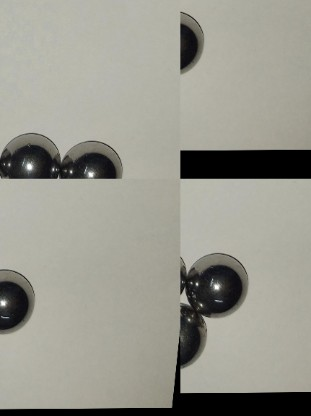ironball: (189, 250, 249, 316), (0, 125, 62, 179), (2, 262, 40, 339), (60, 140, 133, 176), (178, 8, 206, 79), (180, 301, 203, 369)
